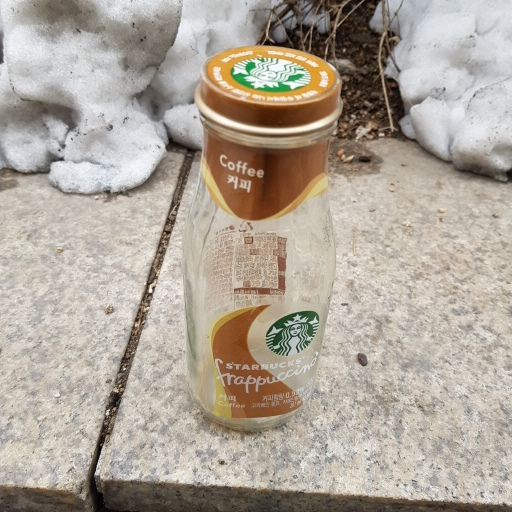Glass_4: (176, 47, 346, 438)
